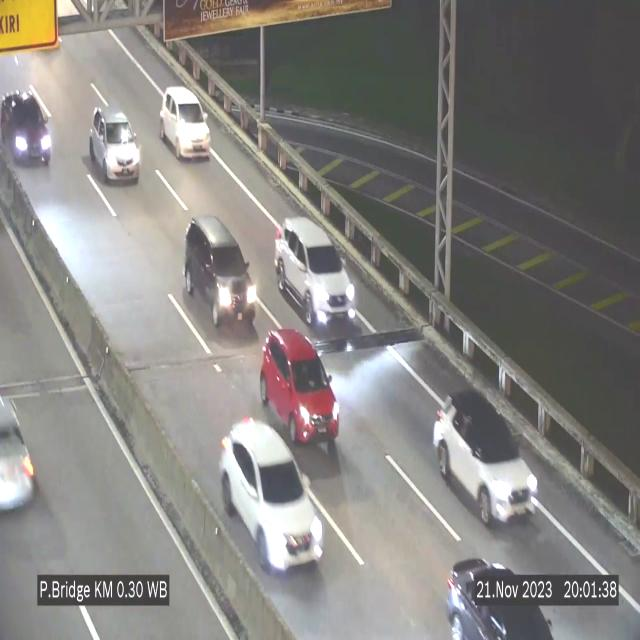Car: (220, 418, 328, 578), (433, 389, 538, 525), (445, 543, 569, 640), (260, 325, 344, 457), (181, 208, 259, 326), (274, 218, 356, 327), (0, 380, 52, 518), (0, 82, 60, 171), (90, 108, 140, 183), (160, 86, 210, 159)
